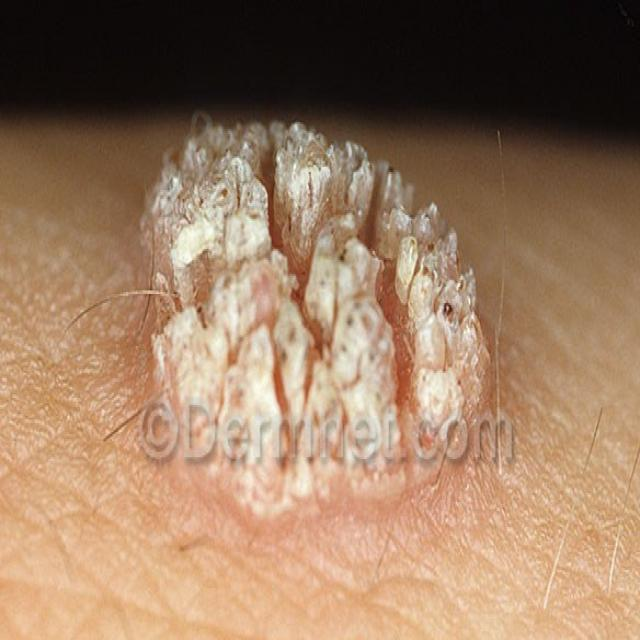Warts: (123, 99, 504, 531)
